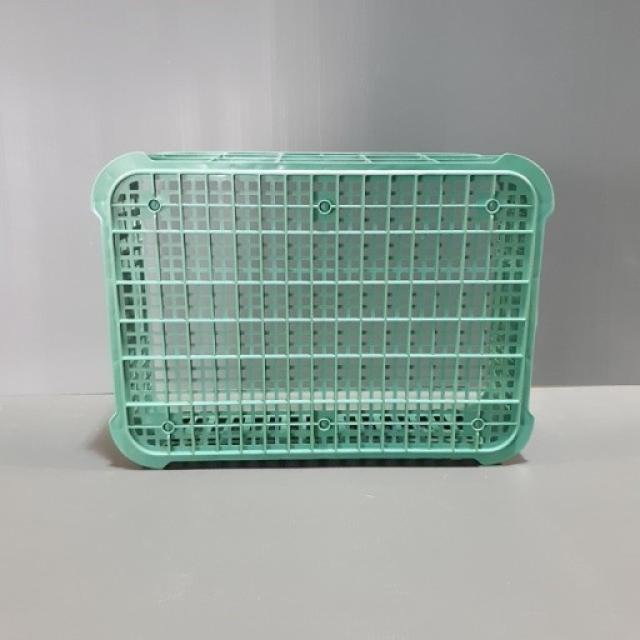basket: (93, 152, 555, 469)
